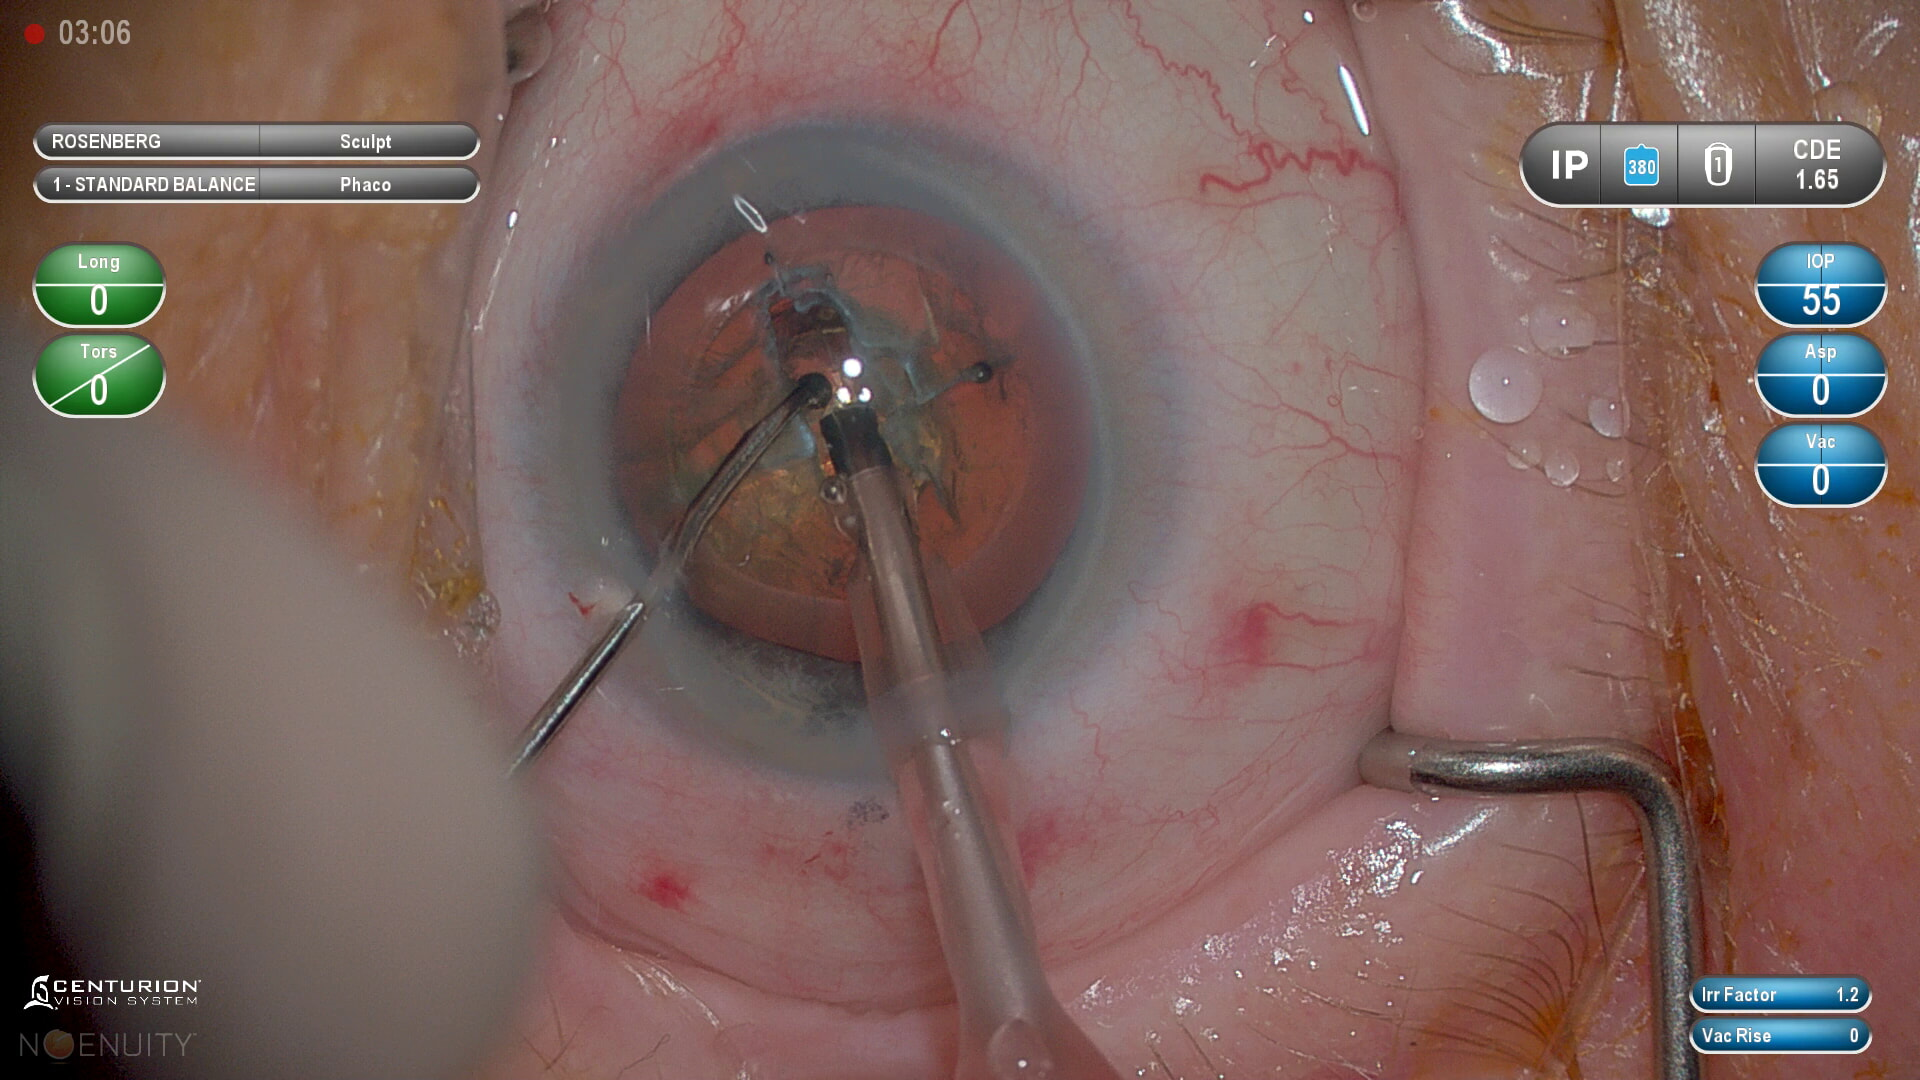iris: (552, 124, 1169, 751)
pupil: (603, 197, 1101, 660)
